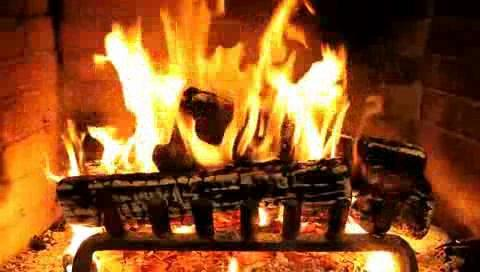fire: (101, 1, 348, 160)
